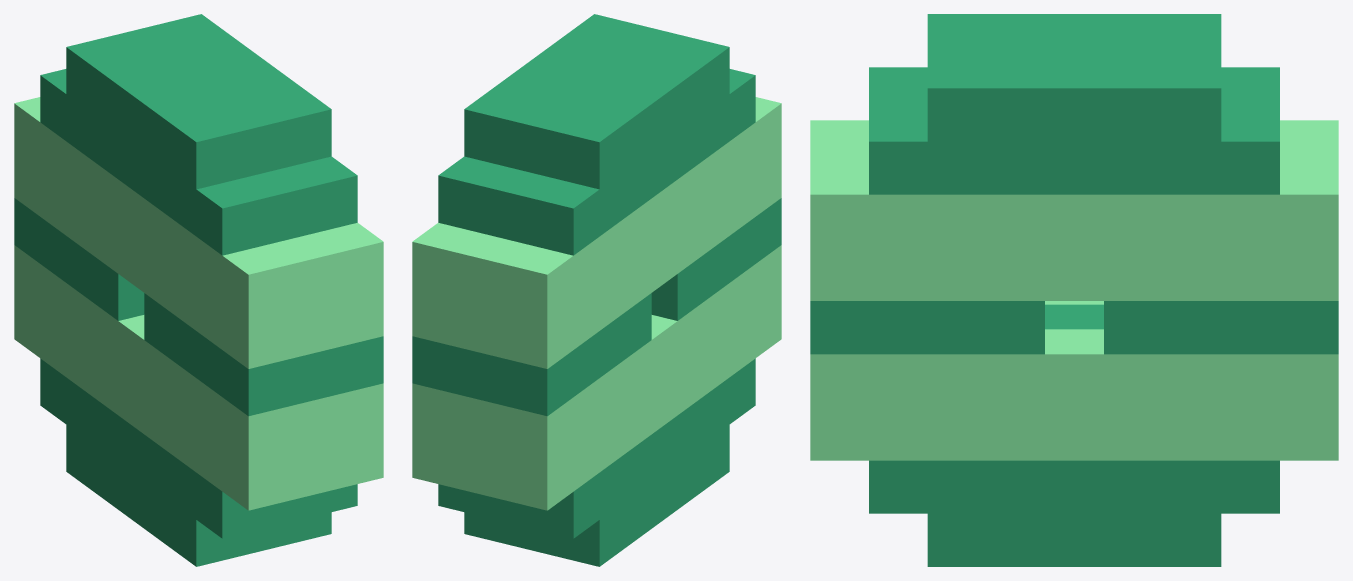
The model's file is Eruption-5.obj.
3 views of the same model, side by side, from view 1: azimuth 30°, elevation 25°; view 2: azimuth 150°, elevation 25°; view 3: azimuth 270°, elevation 25° (orthographic). The views are drawn at different scales.
Size of the model in its own units: 0.3 by 0.9 by 0.9.
Materials: 1 (1 with a texture image).
